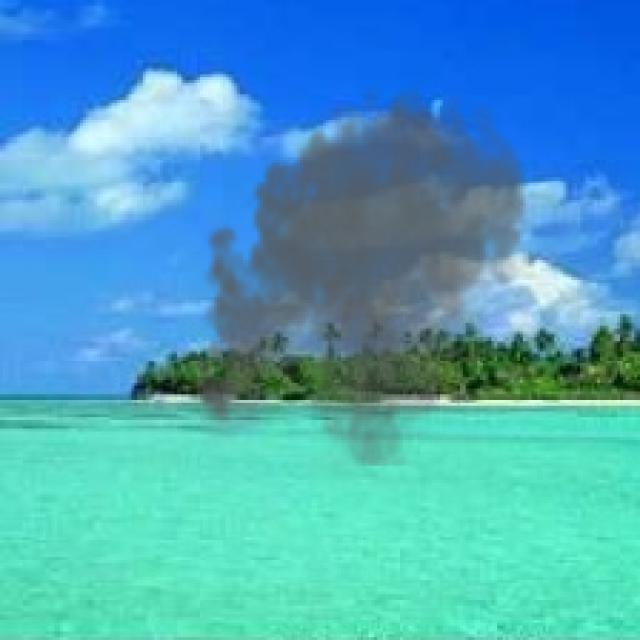smoke: (183, 71, 534, 466)
